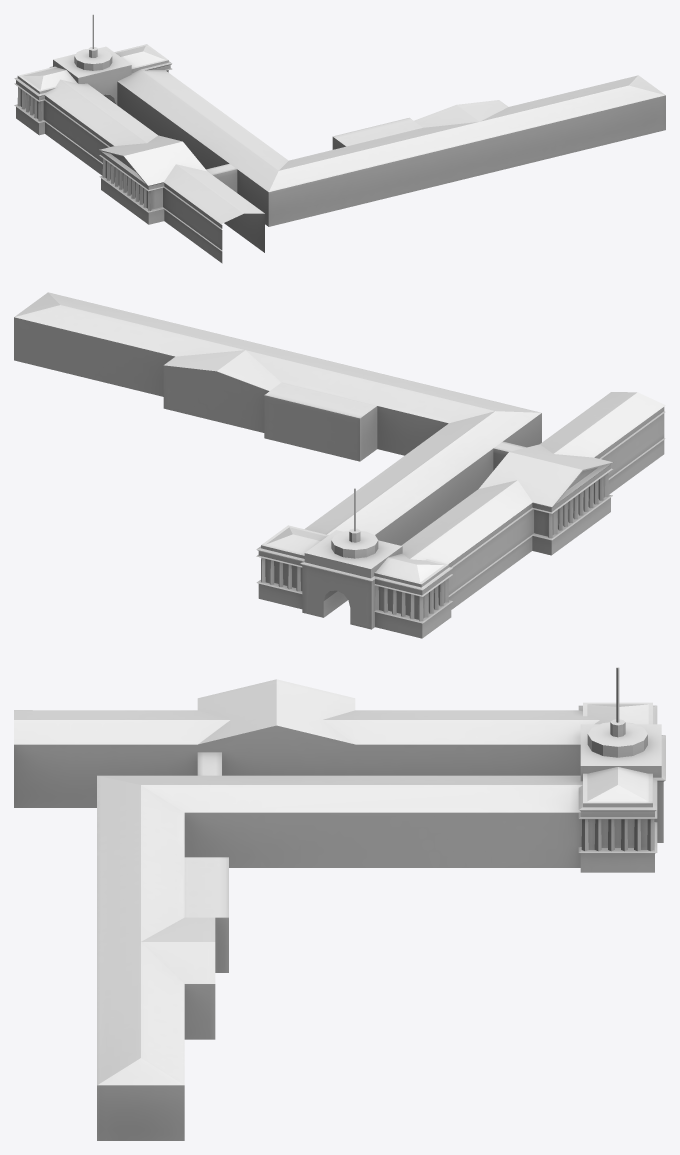
Rendered from admiralty2.dae.
The picture shows the model from 3 angles, top to bottom: view 1: azimuth 30°, elevation 25°; view 2: azimuth 150°, elevation 25°; view 3: azimuth 270°, elevation 25°; orthographic projection. The views are drawn at different scales.
Visible parts, largest first — view 1: Admiralty2, Admiralty3; view 2: Admiralty2, Admiralty3; view 3: Admiralty2, Admiralty3.
Part boxes in pixels (<box>): Admiralty2: <box>14,14,288,263</box>; Admiralty3: <box>268,75,665,226</box>; Admiralty2: <box>256,392,665,638</box>; Admiralty3: <box>14,292,540,461</box>; Admiralty2: <box>14,667,665,872</box>; Admiralty3: <box>97,775,228,1140</box>.
Size of the model in its own units: 0.3128 by 0.2273 by 0.0591.
1 material, 1 textured.
